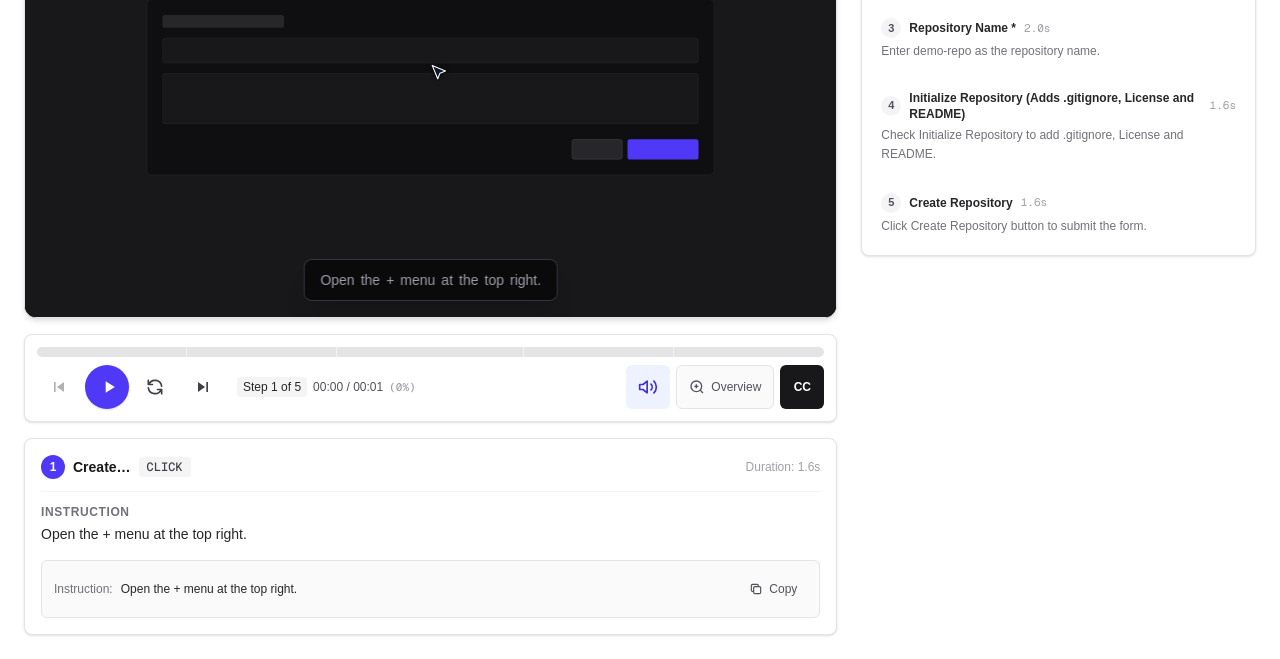
Test case: TutorialPlayer & Accessibility Suite › copies instruction text and input value to clipboard with Copy button
The image size is (1280, 659).
(page scrolled)
Click the button with test id "copy-button".
click(773, 589)  # box x1=739 y1=567 x2=807 y2=611
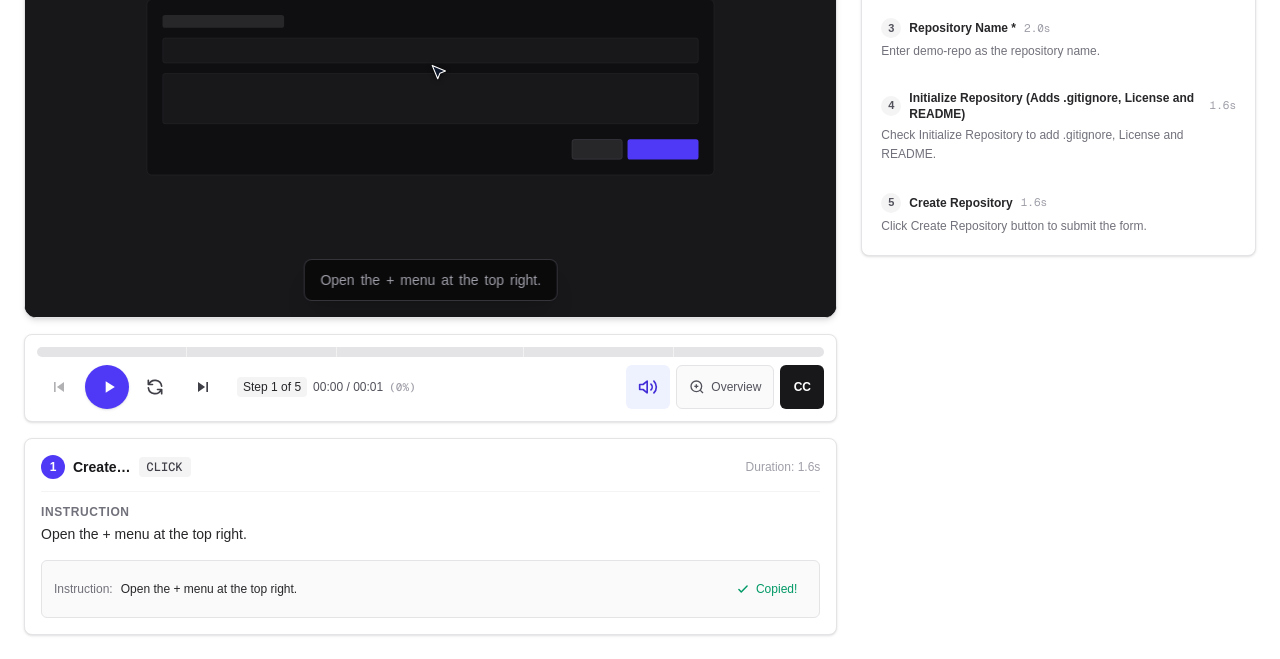
Check: the text "Copied!" is shown, box x1=756 y1=581 x2=797 y2=597
